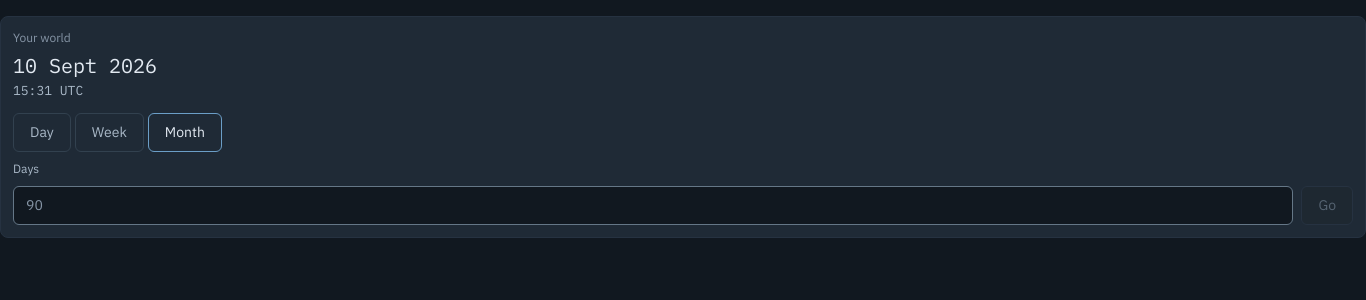
Test: winding the clock › says so when the world did not move
Click the button "Day" at (42, 132), box [13,112,71,152]
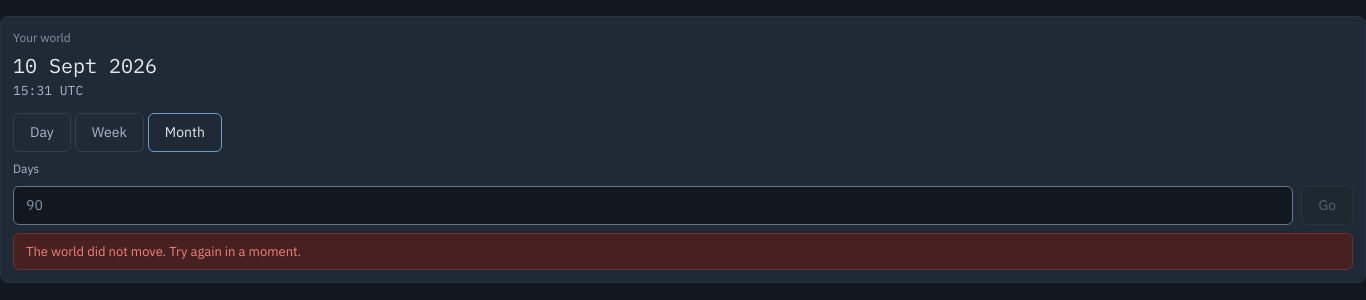
Expected: the text "The world did not move." is shown, [26,242,301,260]
